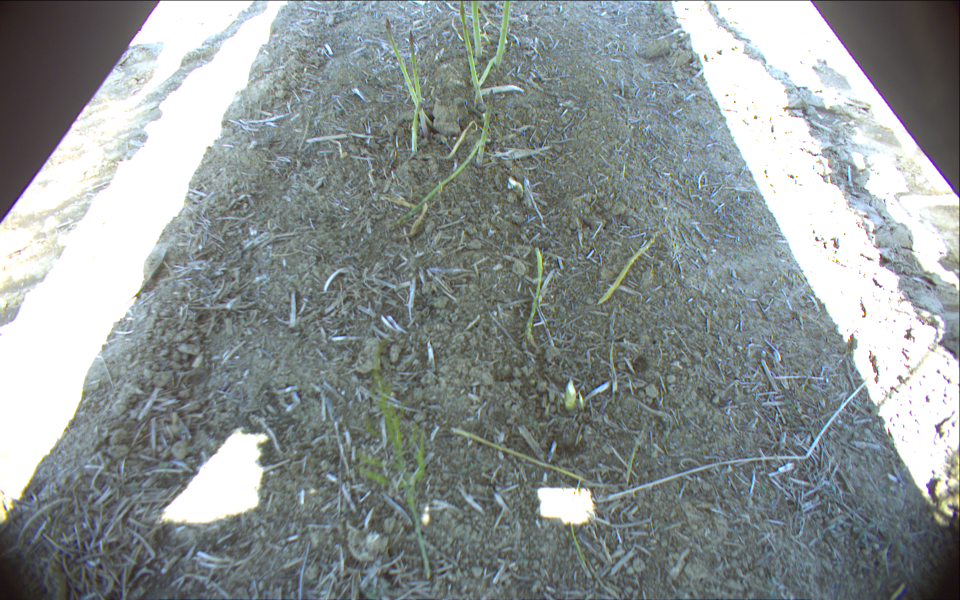aspa: (382, 19, 429, 141), (456, 1, 484, 109), (406, 29, 432, 139), (472, 89, 494, 169), (492, 1, 513, 72), (469, 1, 485, 60), (408, 96, 422, 155)
